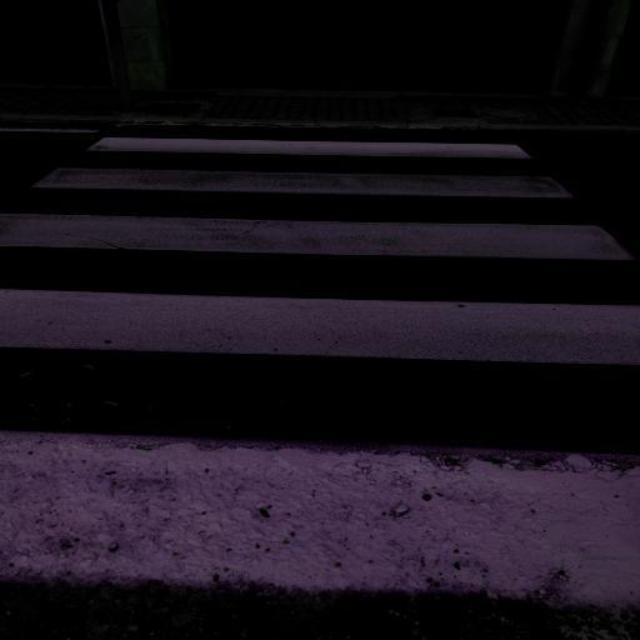sidewalk: (0, 128, 640, 614)
